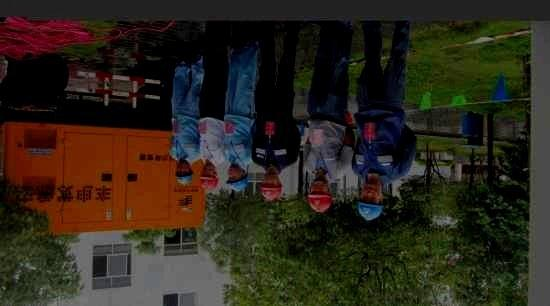helmet: (356, 178, 386, 221), (307, 177, 333, 213), (260, 171, 283, 202), (225, 165, 249, 193), (197, 163, 219, 191), (174, 159, 194, 187)
